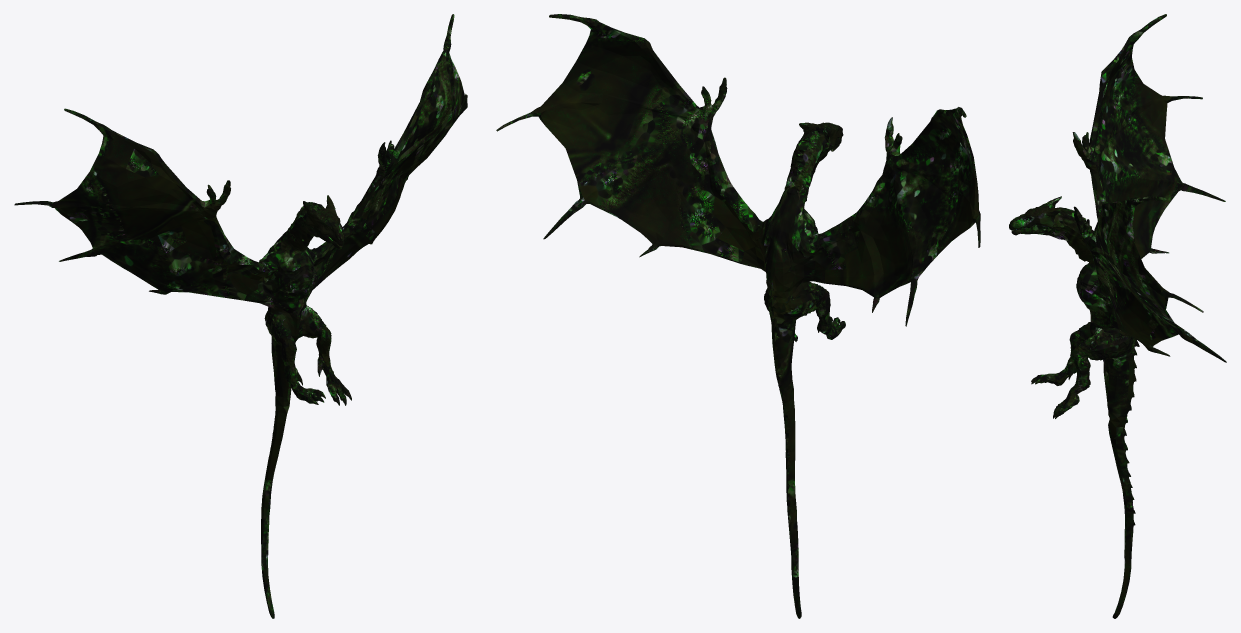
The model's file is frame_0025_uv.obj.
3 views of the same model, side by side, from view 1: azimuth 30°, elevation 25°; view 2: azimuth 150°, elevation 25°; view 3: azimuth 270°, elevation 25° (orthographic). The views are drawn at different scales.
Visible parts, largest first — view 1: pMesh1; view 2: pMesh1; view 3: pMesh1.
Part boxes in pixels (x1=…): pMesh1: x1=14, y1=14, x2=467, y2=618; pMesh1: x1=496, y1=14, x2=980, y2=618; pMesh1: x1=1009, y1=14, x2=1226, y2=618.
Size of the model in its own units: 12.86 by 14.53 by 5.53.
